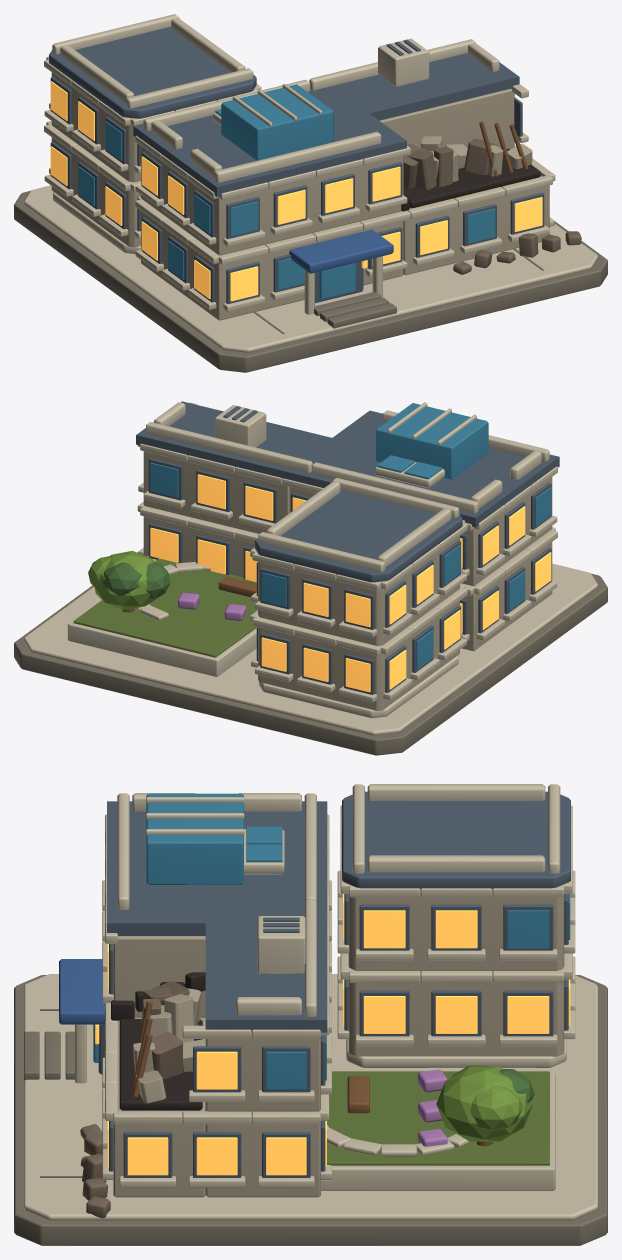
File: civilian-library-damaged.glb
3 renders of one model, top to bottom at view 1: azimuth 30°, elevation 25°; view 2: azimuth 150°, elevation 25°; view 3: azimuth 270°, elevation 25°, orthographic. The views are drawn at different scales.
Visible parts, largest first — view 1: CivilianShell; view 2: CivilianShell; view 3: CivilianShell.
Part boxes in pixels (bbox=[...]): CivilianShell: bbox=[14, 14, 607, 372]; CivilianShell: bbox=[14, 401, 607, 755]; CivilianShell: bbox=[14, 784, 607, 1245].
Size of the model in its own units: 2.97 by 1.43 by 2.97.
